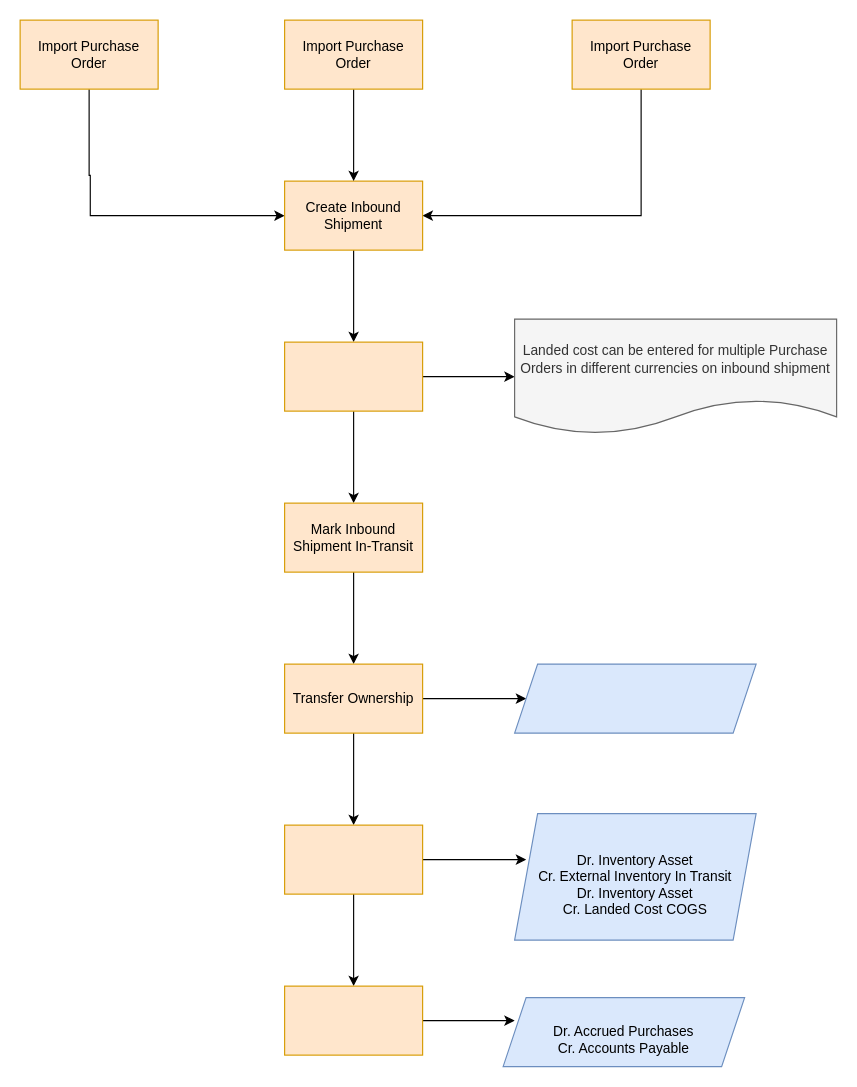
Some shapes in this 857 by 1087 pixel diagram are drawn without their labels. Each missing label, with the centre of its shape:
Bill: point 353,1020
Create Item Receipt for Inbound Shipment through Netsuite or RF Scanner: point 353,859
Dr. External Inventory In Transit Cr. Accrued Purchases: point 634,698
Enter Landed Cost on Inbound Shipment: point 353,376
